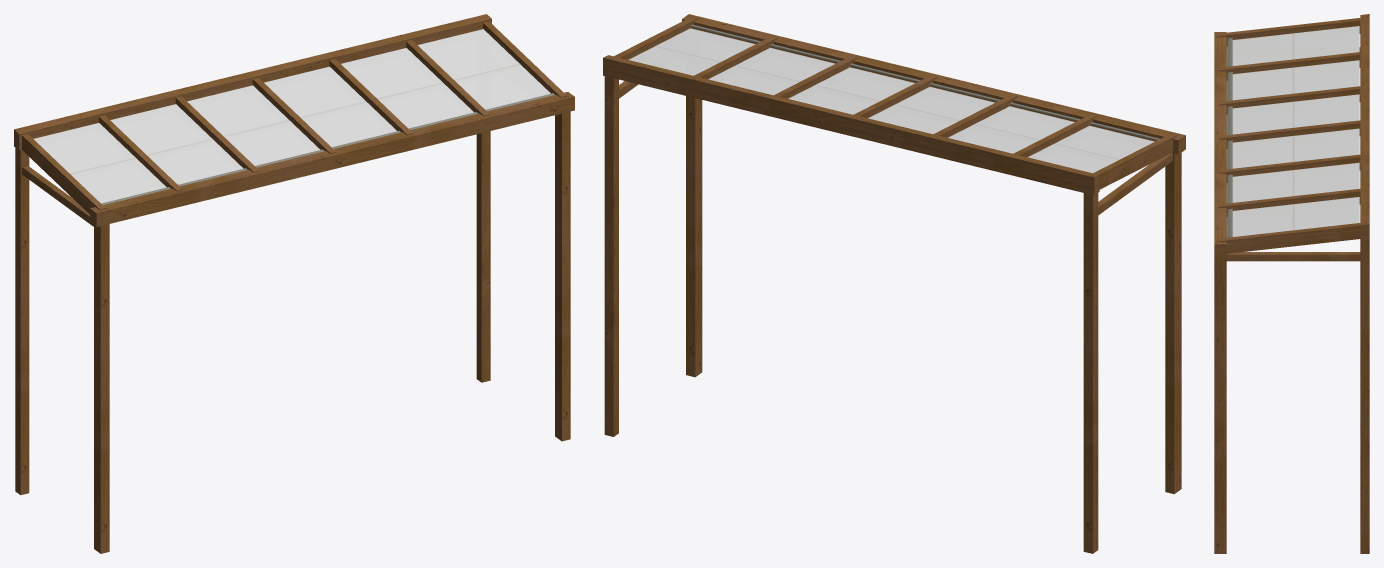
Rendered from sp-dokuritu_2k-4s_naturalpine.fbx.
3 views of the same model, side by side, from view 1: azimuth 30°, elevation 25°; view 2: azimuth 150°, elevation 25°; view 3: azimuth 270°, elevation 25° (orthographic). The views are drawn at different scales.
Parts seen in each view (by area): view 1: sp-dokuritu_2k-4s_naturalpine; view 2: sp-dokuritu_2k-4s_naturalpine; view 3: sp-dokuritu_2k-4s_naturalpine.
Part boxes in pixels (x1,y1,x2,y2): sp-dokuritu_2k-4s_naturalpine: [14, 14, 574, 553]; sp-dokuritu_2k-4s_naturalpine: [603, 14, 1185, 553]; sp-dokuritu_2k-4s_naturalpine: [1214, 14, 1369, 553].
Size of the model in its own units: 404 by 293 by 125.
Materials: 3 (2 with a texture image).
